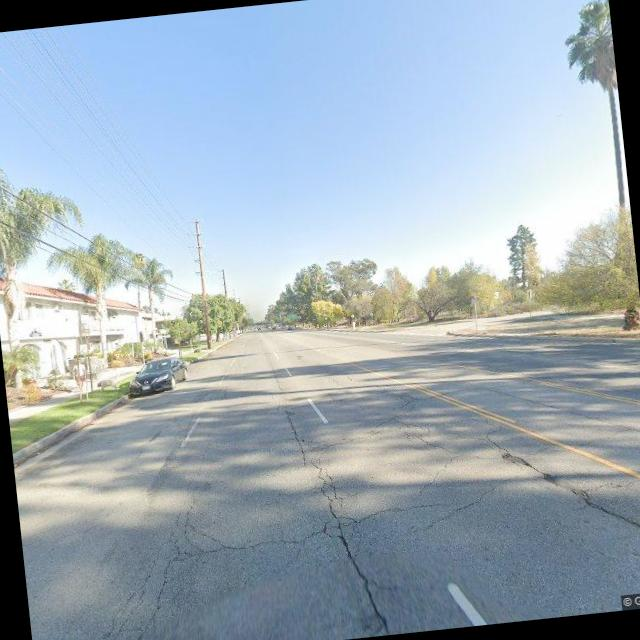crack: (128, 402, 516, 602)
